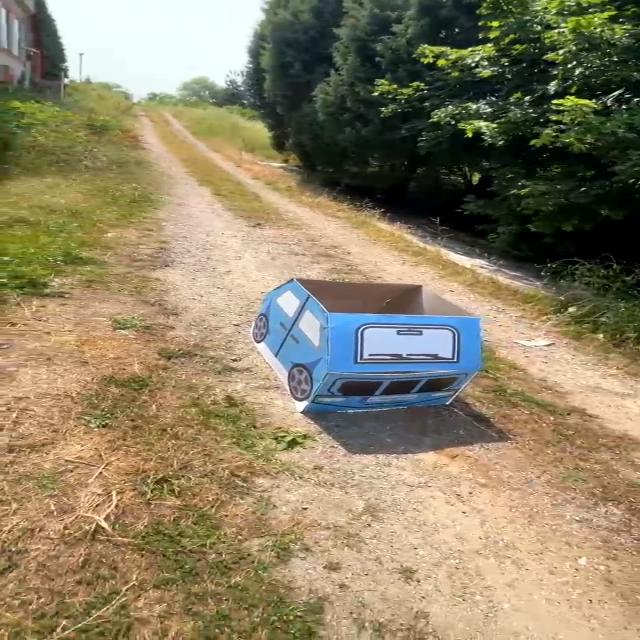blue_car: (214, 268, 507, 433)
